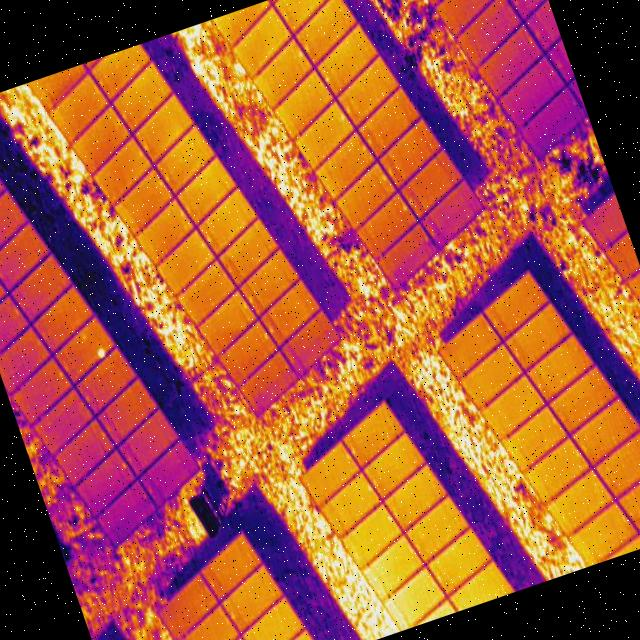Hotspot: (96, 348, 106, 358)
